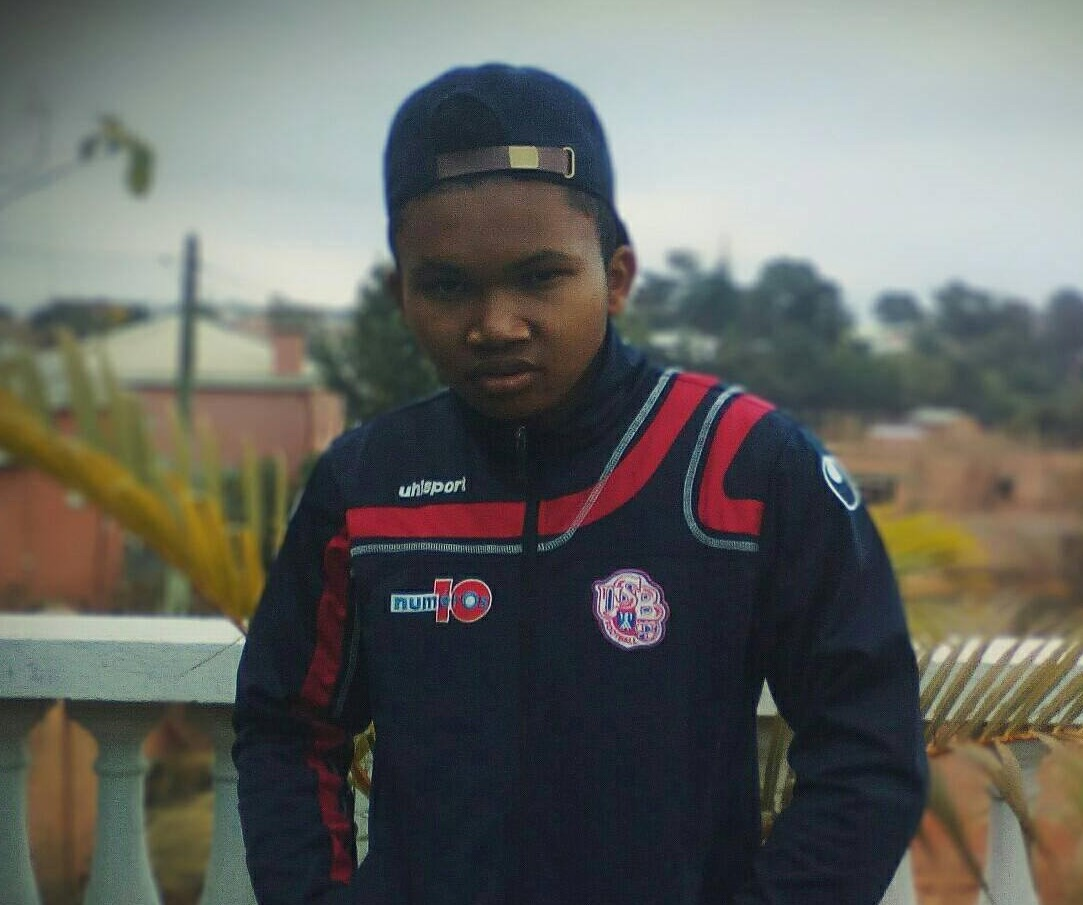BOY: (364, 62, 650, 420)
